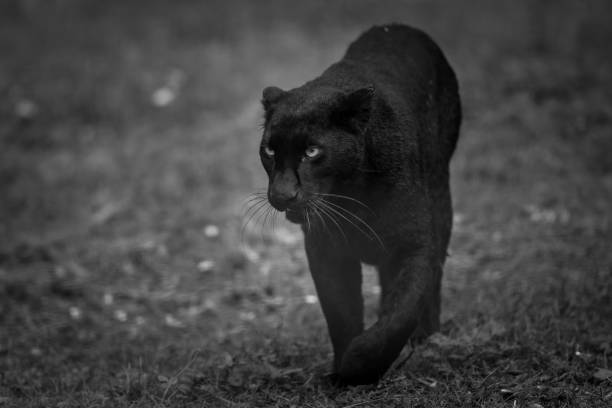panther: (240, 81, 390, 236)
